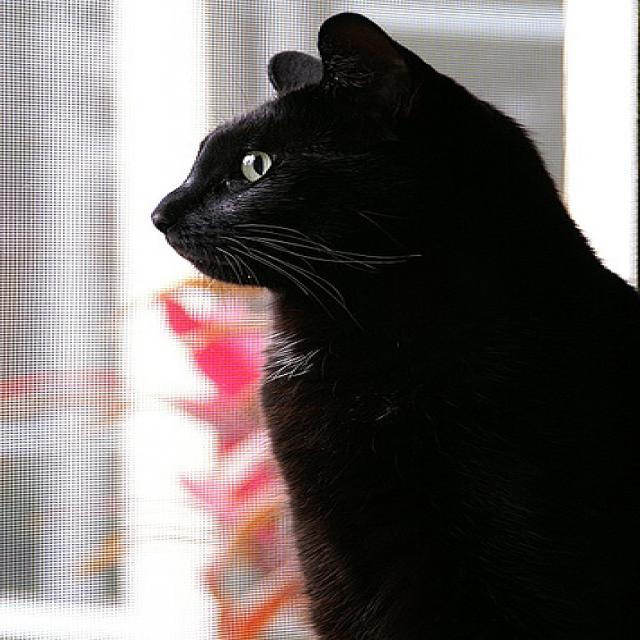cat: (150, 11, 639, 640)
